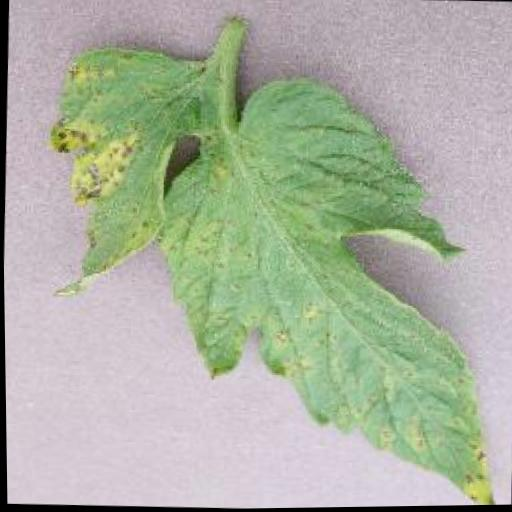Septoria: (40, 47, 509, 512)
